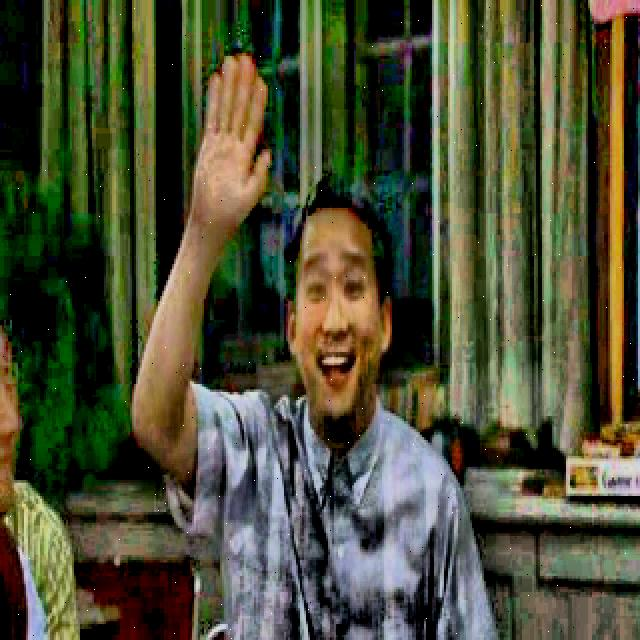T: (111, 46, 512, 640)
